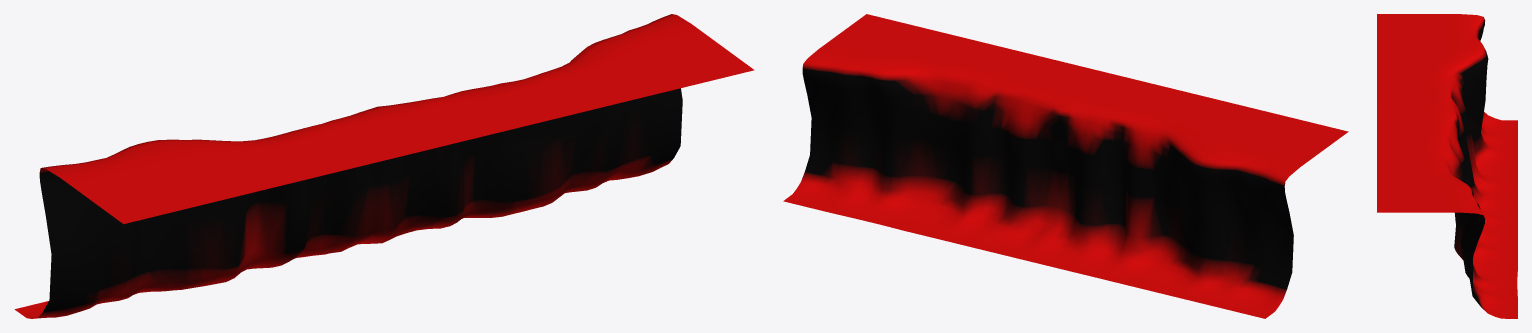
The model's file is GroundCliff02D 1M Foreground.fbx.
3 renders of one model, left to right at view 1: azimuth 30°, elevation 25°; view 2: azimuth 150°, elevation 25°; view 3: azimuth 270°, elevation 25°, orthographic. The views are drawn at different scales.
Visible parts, largest first — view 1: GroundCliff02D 1M Foreground; view 2: GroundCliff02D 1M Foreground; view 3: GroundCliff02D 1M Foreground.
Part boxes in pixels (<box>): GroundCliff02D 1M Foreground: <box>14,14,754,318</box>; GroundCliff02D 1M Foreground: <box>783,14,1348,318</box>; GroundCliff02D 1M Foreground: <box>1377,14,1517,318</box>.
Bounding box in the file's own units: 4 × 1 × 1.2.
